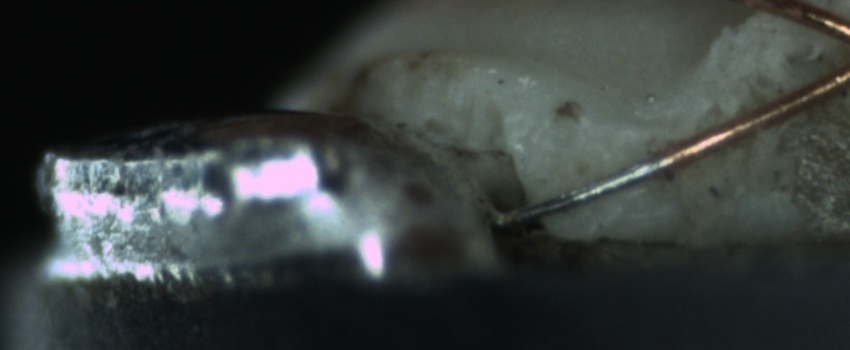TS: (499, 153, 665, 226)
